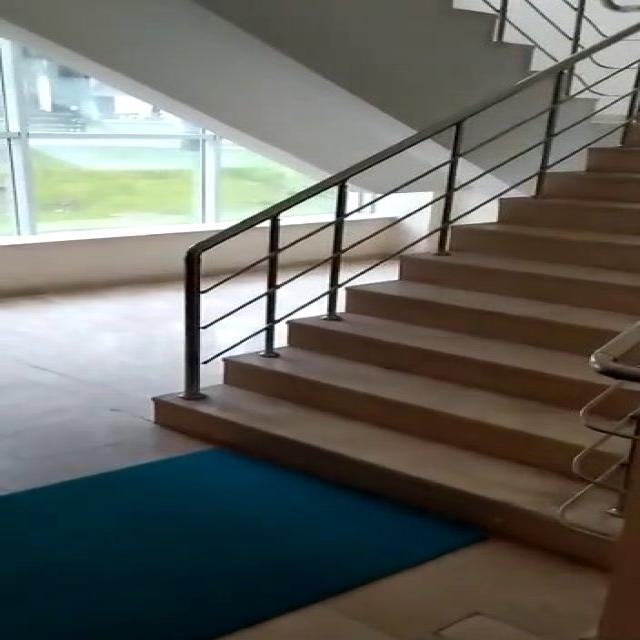upstair: (143, 55, 640, 586)
